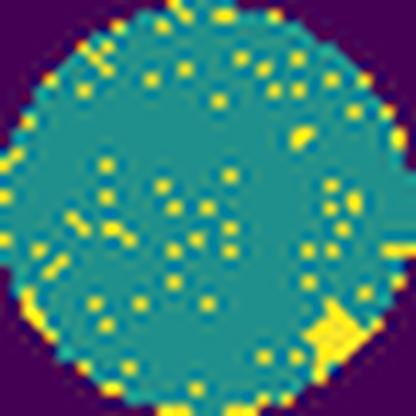Edge-Loc: (299, 293, 381, 385)
